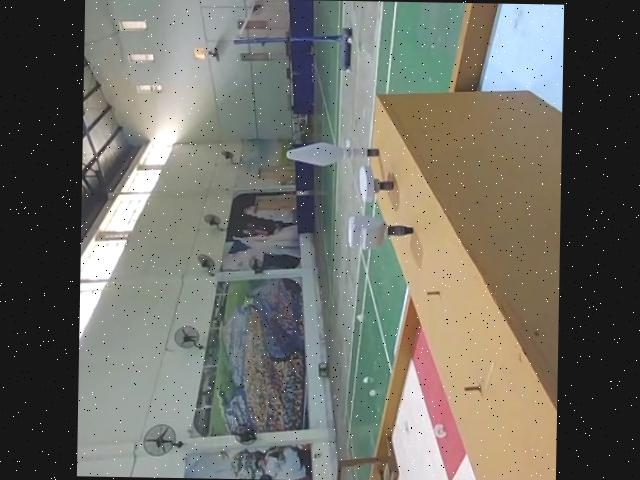Fist: (344, 211, 412, 249)
Hand: (353, 166, 392, 202)
Sph: (283, 141, 381, 171)
